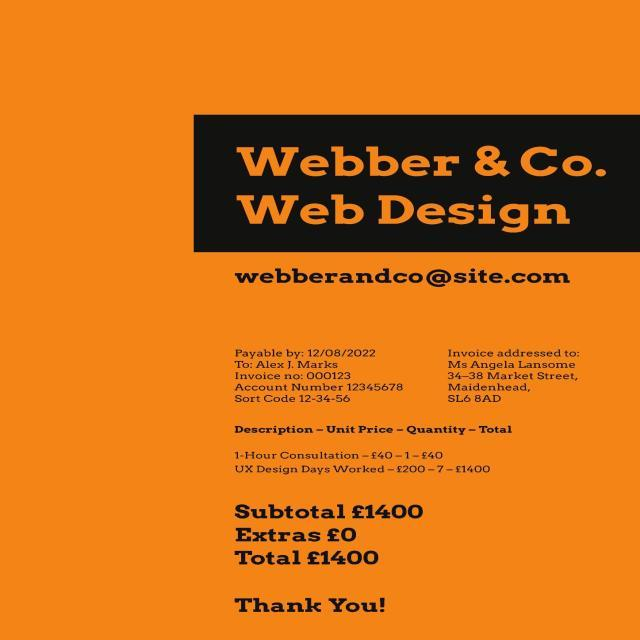ROI: (195, 114, 640, 247), (230, 423, 522, 481), (230, 502, 432, 570), (234, 344, 412, 414), (234, 266, 575, 292), (445, 346, 588, 406), (231, 598, 388, 620)
